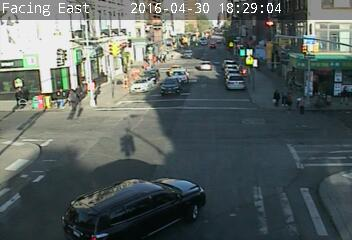neg: (165, 168, 201, 216), (110, 120, 143, 164), (50, 115, 78, 153), (220, 68, 247, 104), (288, 37, 310, 66), (42, 37, 63, 65), (144, 27, 162, 51), (295, 186, 312, 208), (106, 40, 122, 62), (10, 84, 26, 106), (11, 153, 27, 174), (160, 73, 171, 89), (197, 56, 206, 68)
pos: (61, 84, 80, 110), (270, 85, 286, 107), (332, 85, 348, 106), (295, 99, 308, 117), (285, 91, 296, 106)
